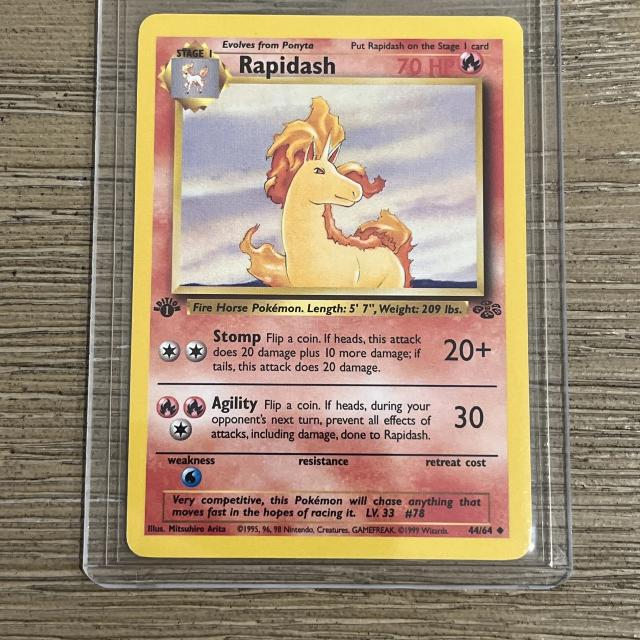Card: (120, 6, 542, 564)
Name: (234, 52, 342, 79)
